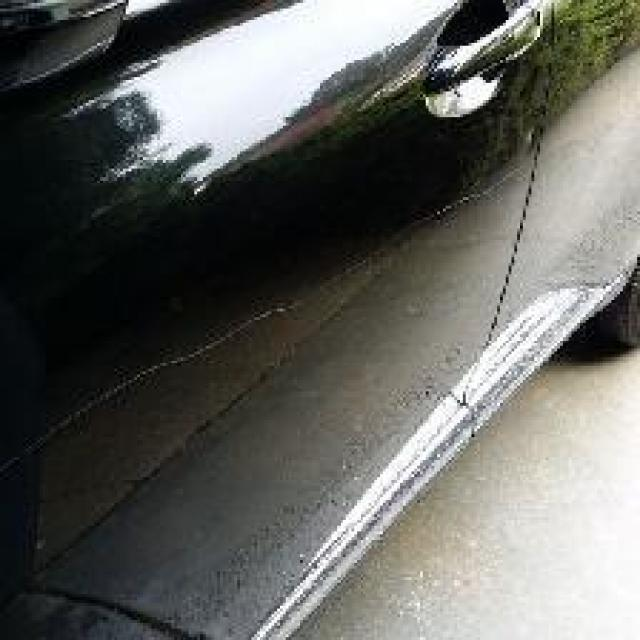damaged: (17, 166, 540, 420)
